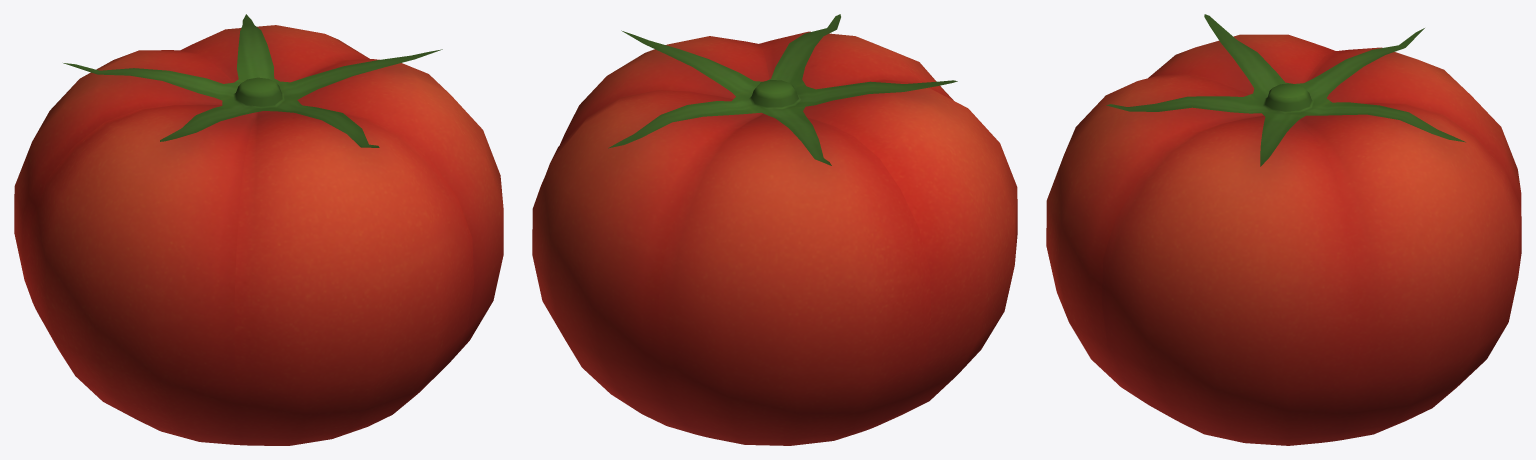
Rendered from StackUp_Tomato.fbx.
3 views of the same model, side by side, from view 1: azimuth 30°, elevation 25°; view 2: azimuth 150°, elevation 25°; view 3: azimuth 270°, elevation 25° (orthographic). The views are drawn at different scales.
Visible parts, largest first — view 1: StackUp_Tomato; view 2: StackUp_Tomato; view 3: StackUp_Tomato.
Boxes of the visible parts, x1,y1,x2,y2 form: StackUp_Tomato: (14, 14, 503, 445); StackUp_Tomato: (532, 14, 1017, 445); StackUp_Tomato: (1046, 14, 1521, 445).
Bounding box in the file's own units: 16.36 × 12.02 × 16.11.
